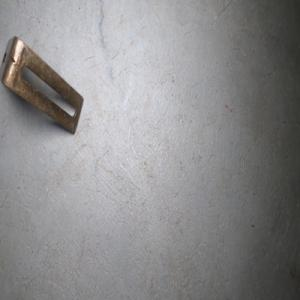MetalPart: (0, 33, 84, 136)
